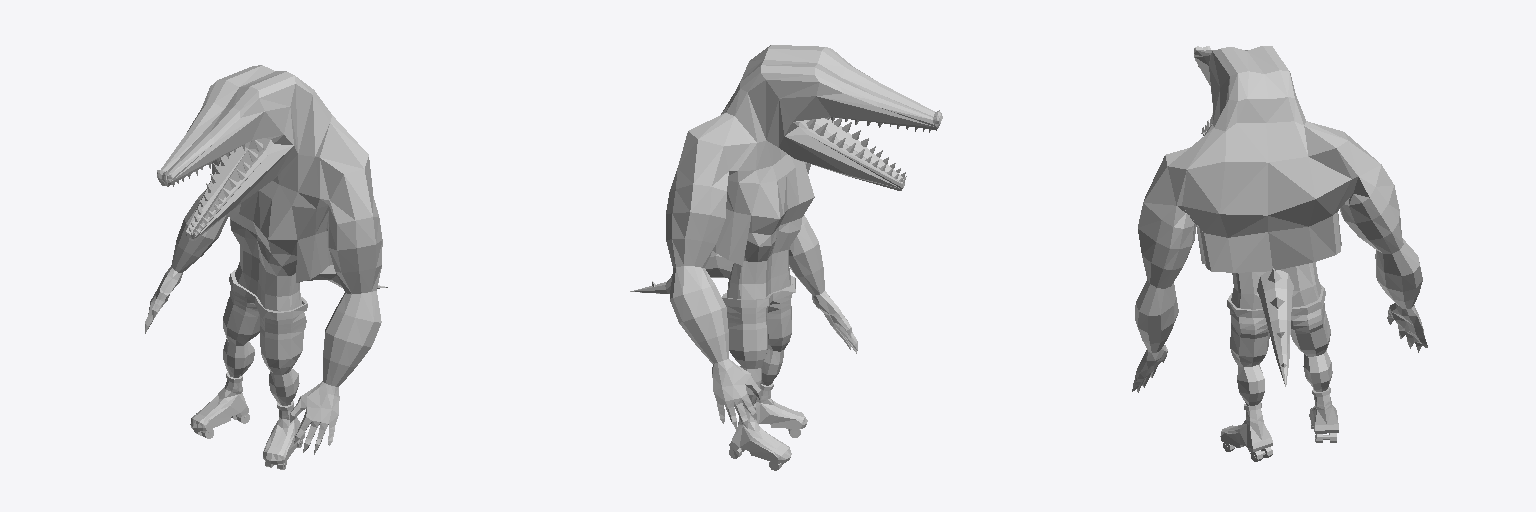
The model's file is cocodrilaBonesSelect_000017.obj.
The picture shows the model from 3 angles: view 1: azimuth 30°, elevation 25°; view 2: azimuth 150°, elevation 25°; view 3: azimuth 270°, elevation 25°; orthographic projection.
Parts seen in each view (by area): view 1: Crocodile.002_Cylinder.002; view 2: Crocodile.002_Cylinder.002; view 3: Crocodile.002_Cylinder.002.
Boxes of the visible parts, x1=… form: Crocodile.002_Cylinder.002: x1=145, y1=65, x2=387, y2=469; Crocodile.002_Cylinder.002: x1=630, y1=45, x2=942, y2=470; Crocodile.002_Cylinder.002: x1=1132, y1=46, x2=1427, y2=461.
Bounding box in the file's own units: 4.95 × 6.79 × 4.67.